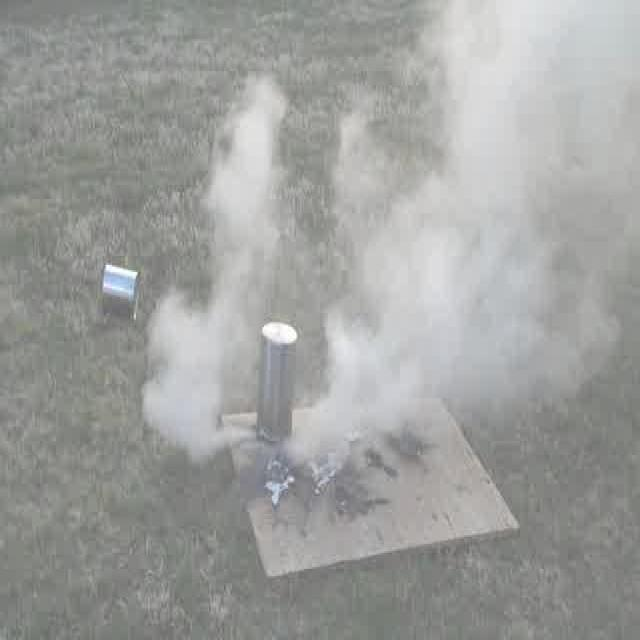Smoke: (143, 0, 640, 472)
